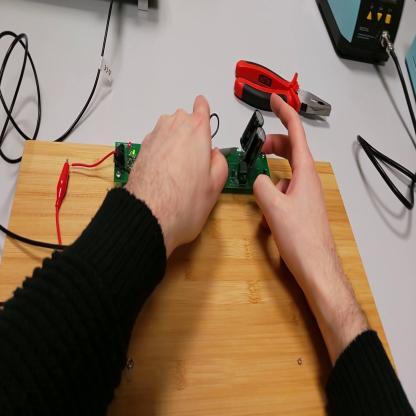hand: (252, 94, 335, 287), (127, 98, 230, 251)
high voltage board: (72, 110, 270, 195)
oscilloscope probe tip: (222, 141, 239, 158)
pliers: (235, 58, 334, 121)
welder base: (408, 24, 416, 99)
welder station: (316, 2, 406, 64)
working area: (1, 140, 412, 414)
